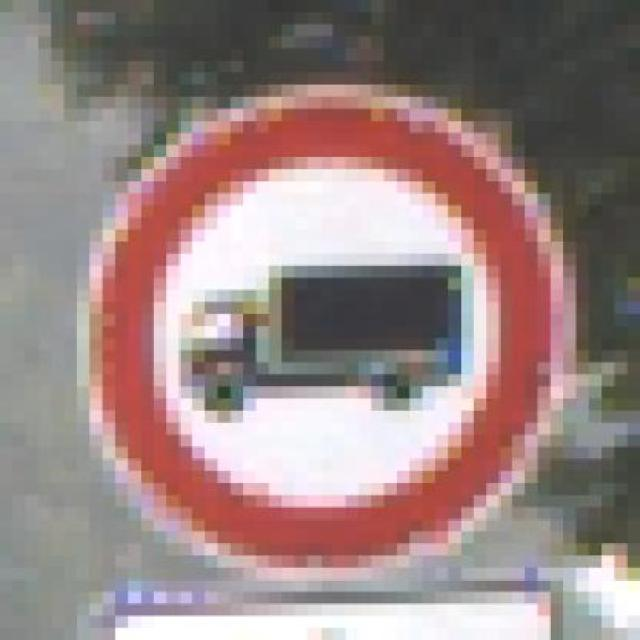Truck traffic is prohibited: (39, 72, 602, 605)
